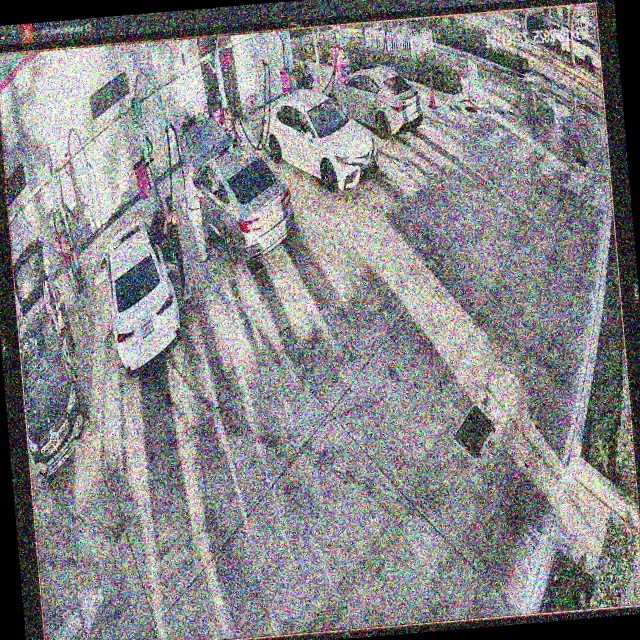Car: (185, 115, 296, 269), (259, 85, 379, 200), (100, 217, 184, 376), (322, 61, 424, 142)
